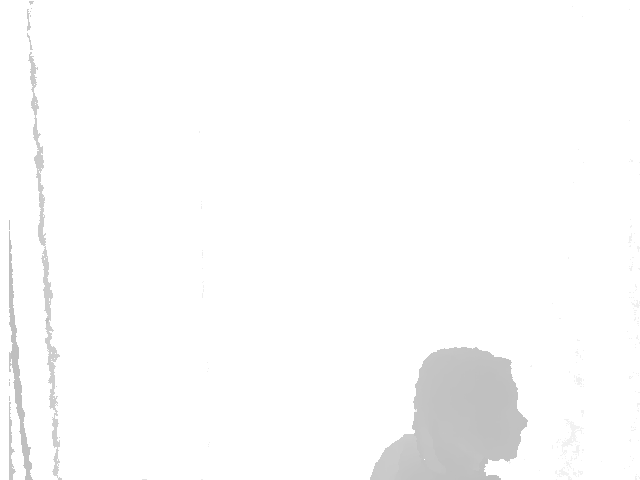head: (408, 346, 530, 460)
person: (367, 330, 534, 480)
